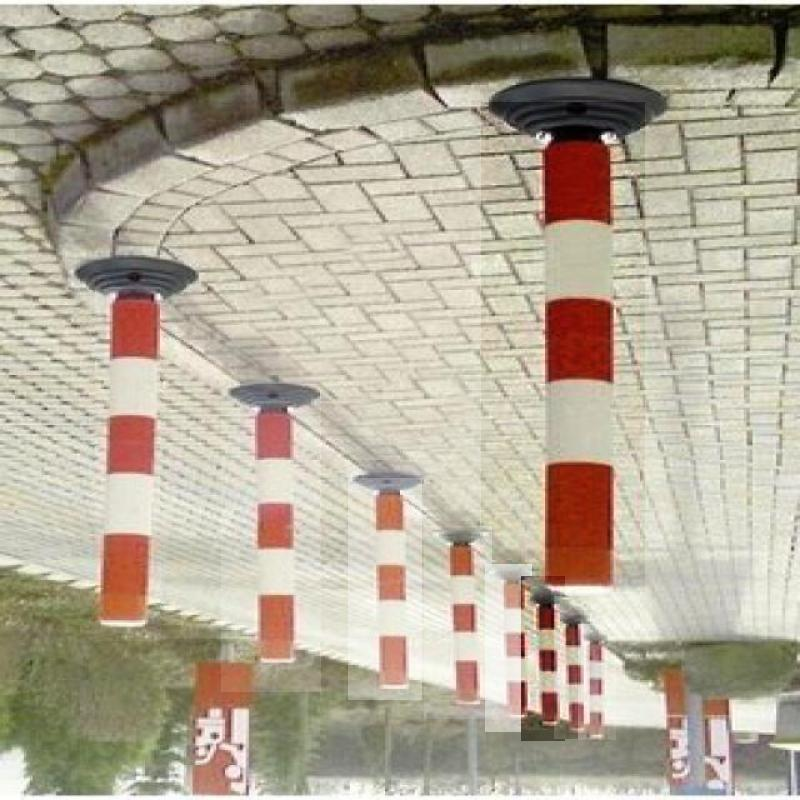pillar: (481, 102, 645, 592), (221, 390, 321, 692), (95, 287, 161, 641), (348, 478, 422, 700), (424, 526, 492, 719), (485, 564, 532, 732), (521, 576, 565, 741), (554, 596, 590, 739), (578, 624, 616, 740)
